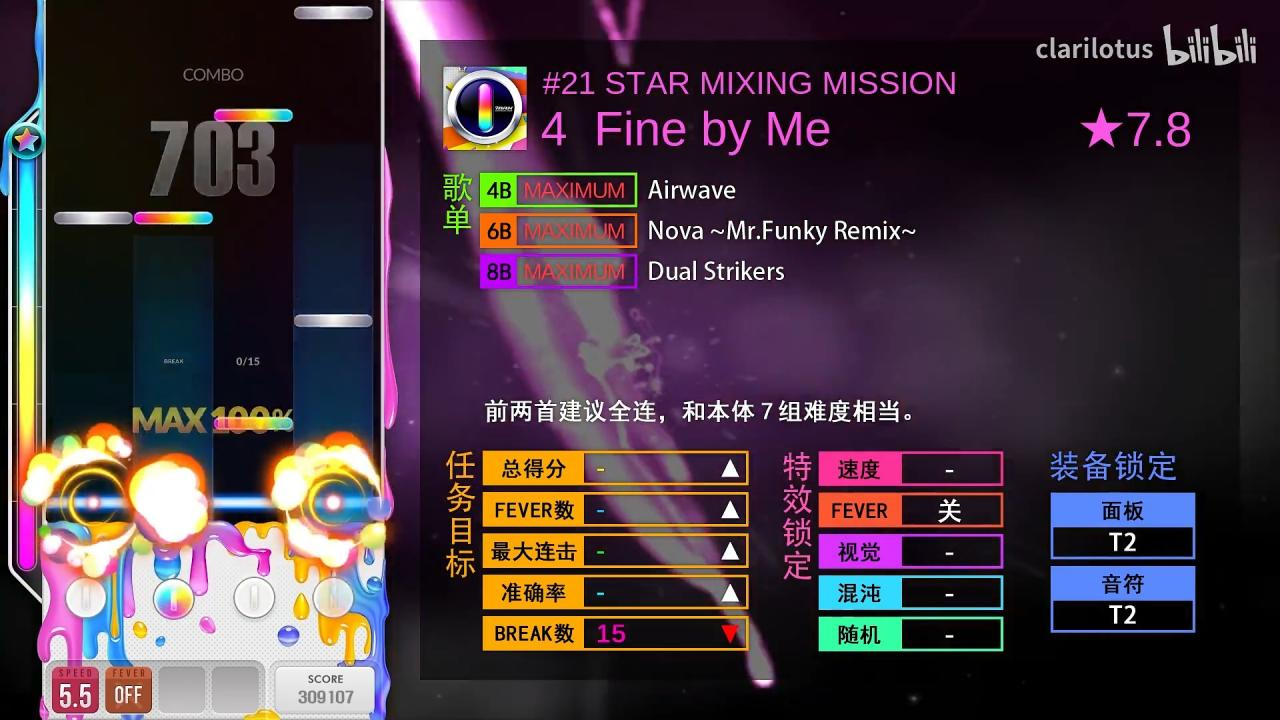note: (133, 211, 214, 226), (293, 313, 373, 328), (54, 211, 133, 226), (293, 6, 373, 20), (214, 417, 293, 431), (214, 108, 292, 122)
